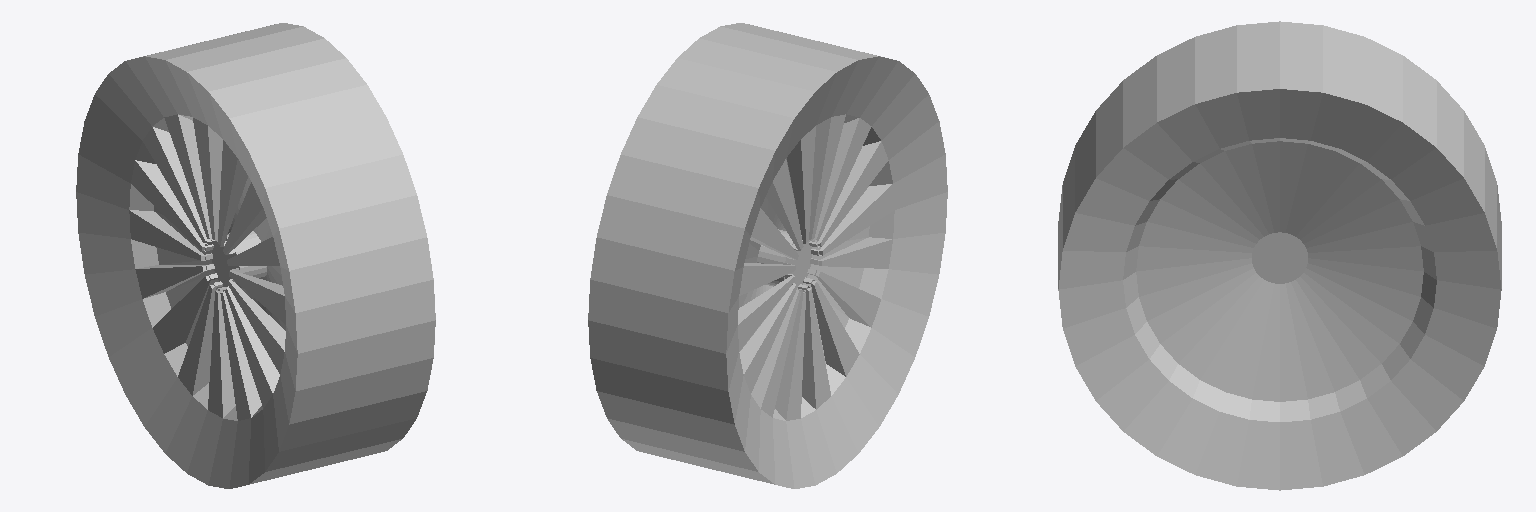
The model's file is roda_tras_esquerda.obj.
3 views of the same model, side by side, from view 1: azimuth 30°, elevation 25°; view 2: azimuth 150°, elevation 25°; view 3: azimuth 270°, elevation 25° (orthographic).
Parts seen in each view (by area): view 1: Roda_tras_esquerda; view 2: Roda_tras_esquerda; view 3: Roda_tras_esquerda.
Part boxes in pixels (left/top/right/bottom): Roda_tras_esquerda: left=76, top=23, right=435, bottom=488; Roda_tras_esquerda: left=588, top=23, right=947, bottom=488; Roda_tras_esquerda: left=1058, top=21, right=1501, bottom=490.
Size of the model in its own units: 0.2109 by 0.5859 by 0.5859.